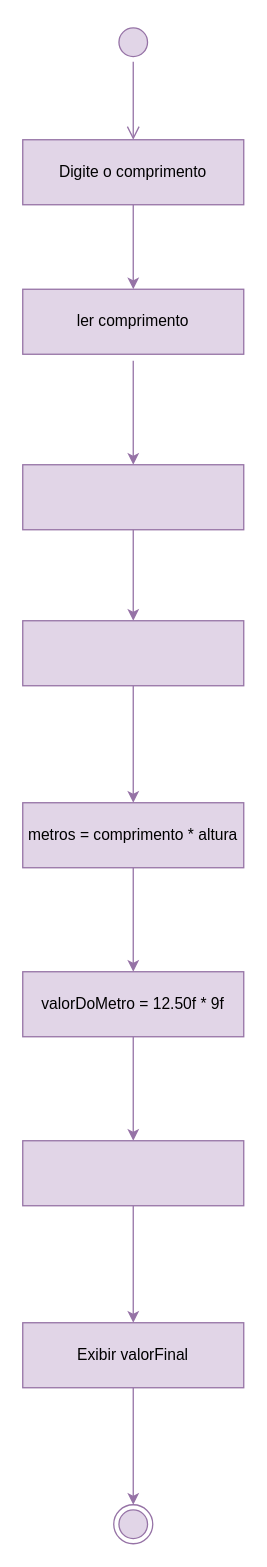
Image size: 267x1567. Some labels were removed from this diagram. The shapes that lost their labels are listed below. From the top down, each one's centre as x and y in pixels, then its label:
At pixel 132 496: "Digite a altura".
At pixel 132 652: "ler altura".
At pixel 132 1172: "valorFinal = metros * valorDoMetro".
